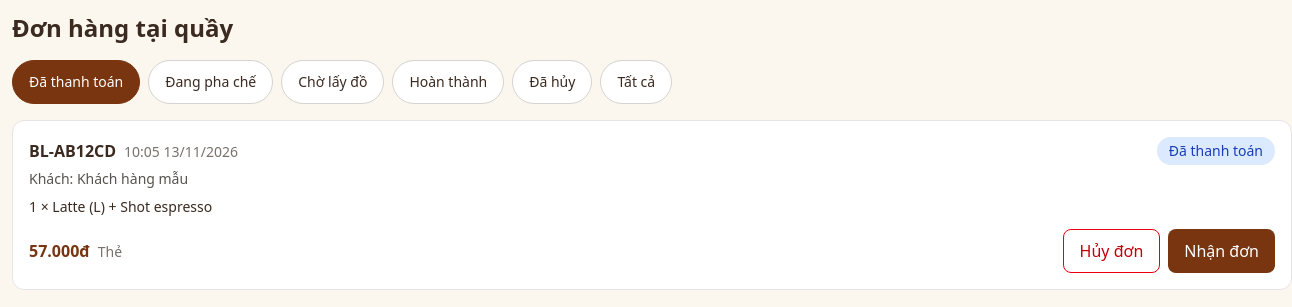
Test: Màn hình quầy của nhân viên (CT-53 – CT-58) › CT-56: đơn vừa bị nhân viên khác đổi (409) thì hiện câu báo của API và tải lại danh sách
The image size is (1292, 307).
Step 1. Click the button "Nhận đơn" → (1222, 251), box x1=1168 y1=229 x2=1275 y2=273
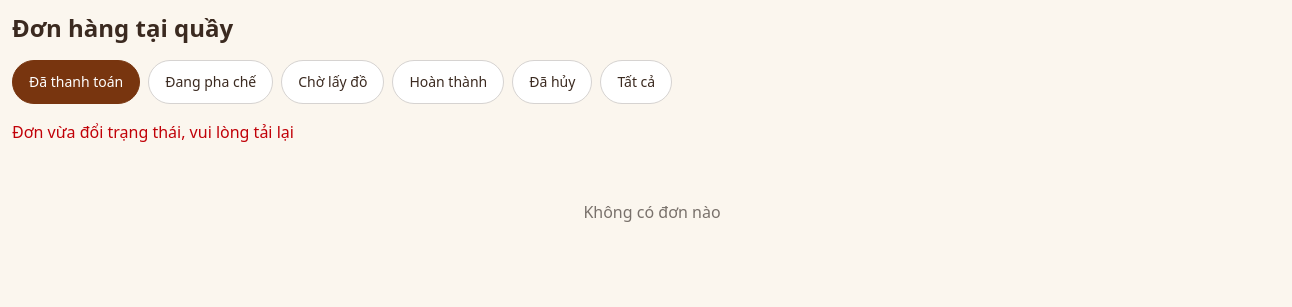
Now the message reads "Đơn vừa đổi trạng thái, vui lòng tải lại", box x1=12 y1=121 x2=294 y2=143
Now the text "Không có đơn nào" is shown, box x1=583 y1=201 x2=721 y2=223
